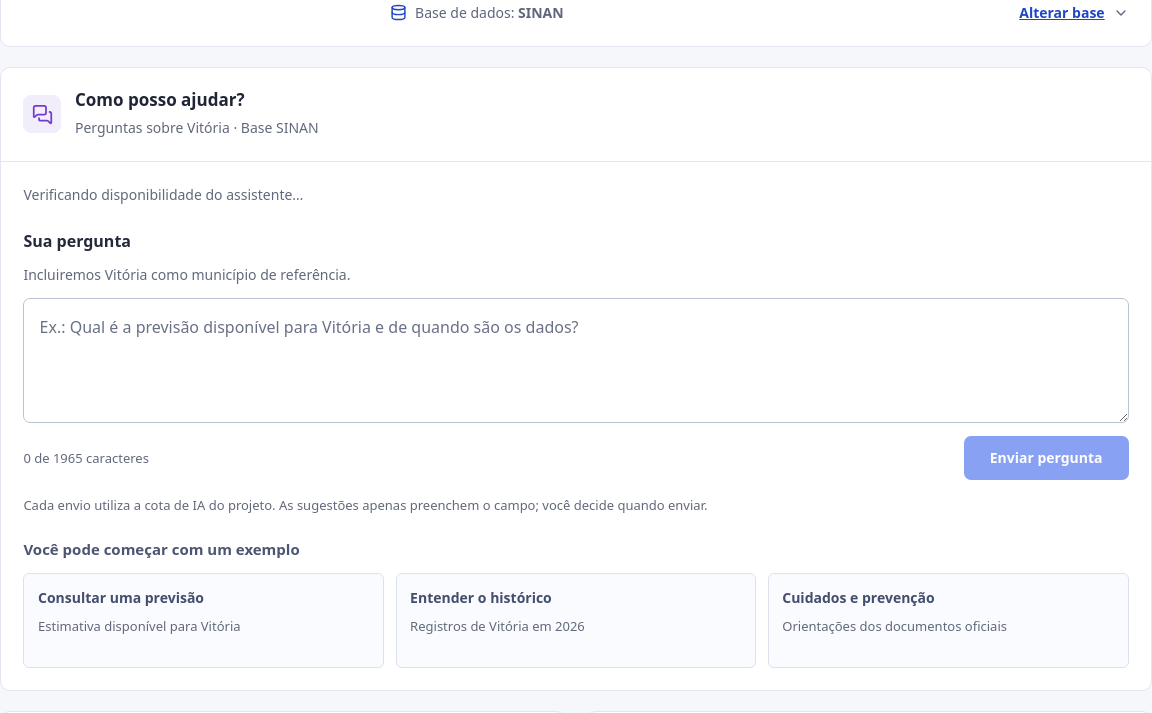
conversa do assistente, sem chamadas externas › impede envios duplicados enquanto aguarda a resposta
Later steps or results of the test are not shown.
(page scrolled)
Replace the text in the text box labelled "Sua pergunta" with "Qual é a previsão?" at [576, 361], box 23,298 -> 1129,423
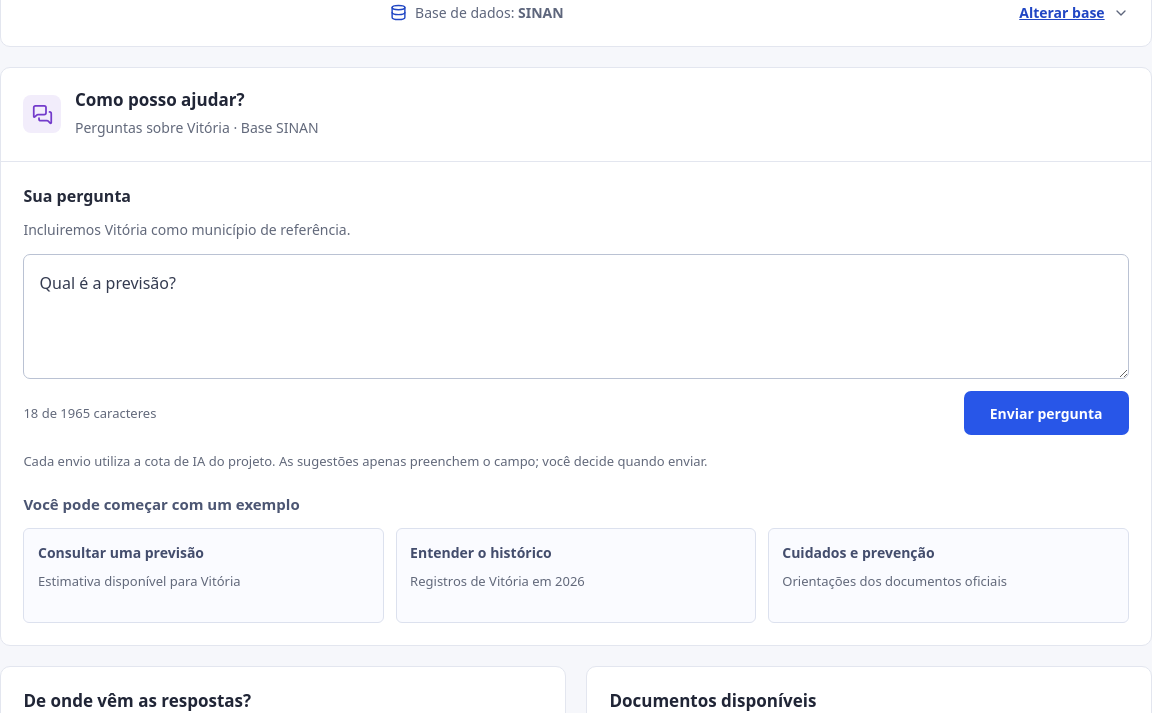
Expected: the button "Enviar pergunta" is enabled
Click the button "Enviar pergunta" at [1046, 413], box 964,391 -> 1129,435
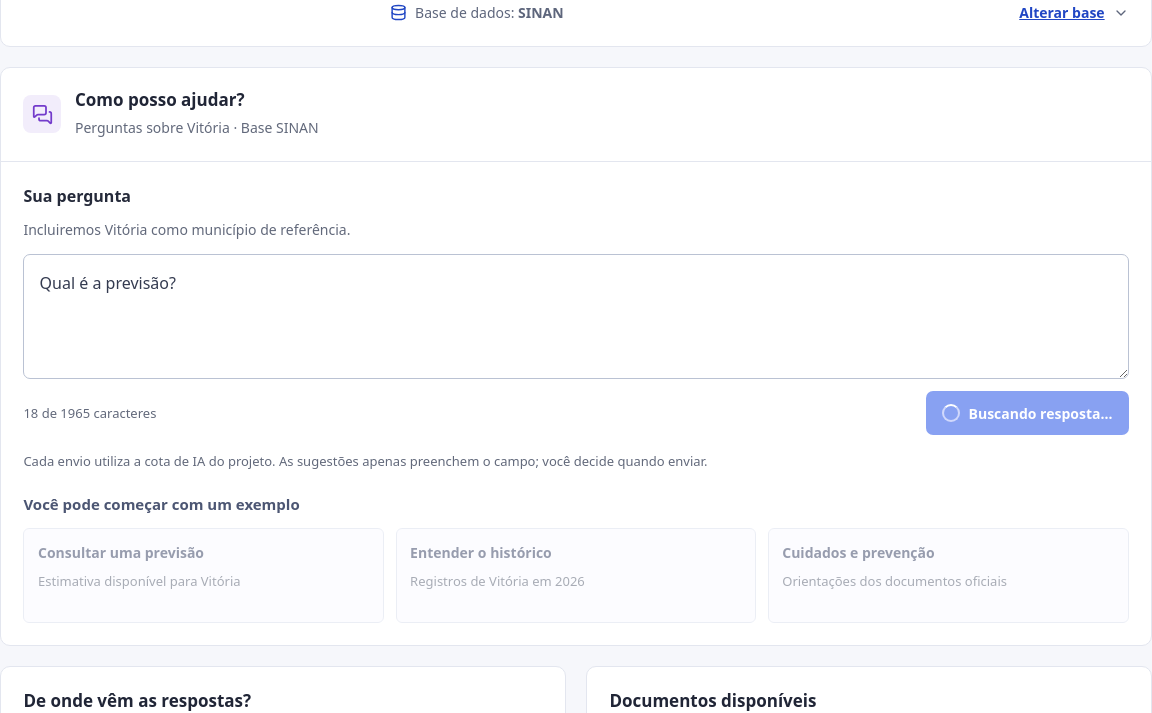
Submit the form named "Buscando resposta", box 23,184 -> 1129,473
(page scrolled)
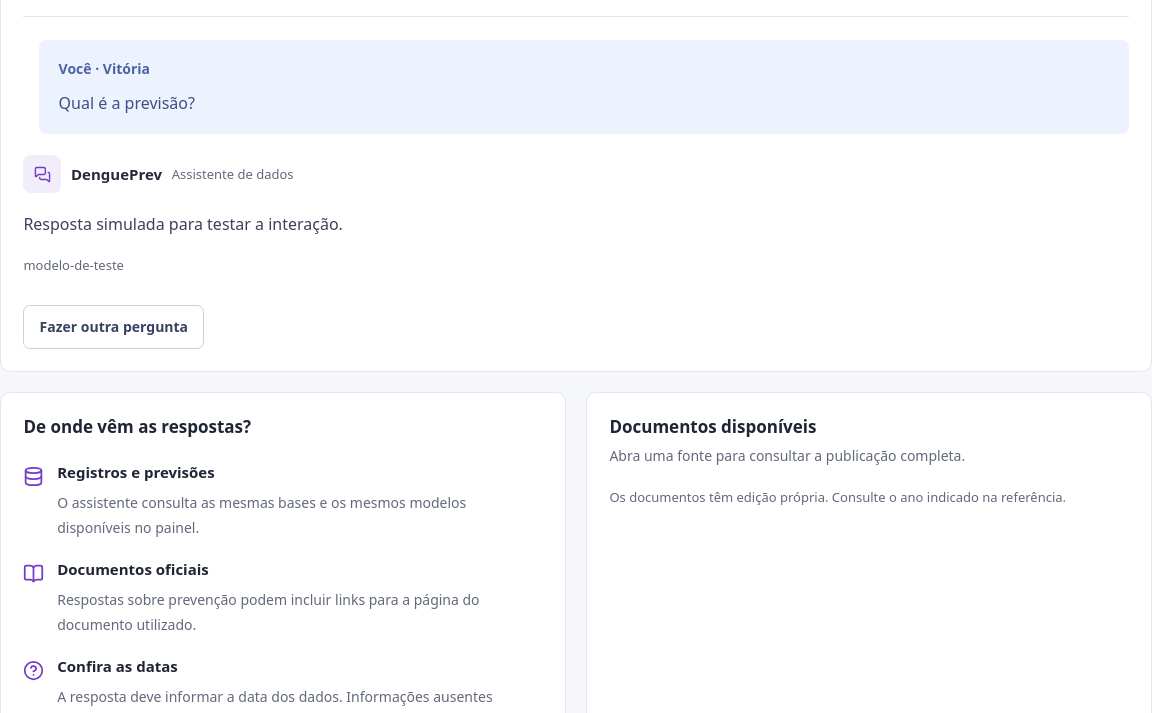
Expected: the text "Resposta simulada para testar a interação." is shown, 23,213 -> 343,235
